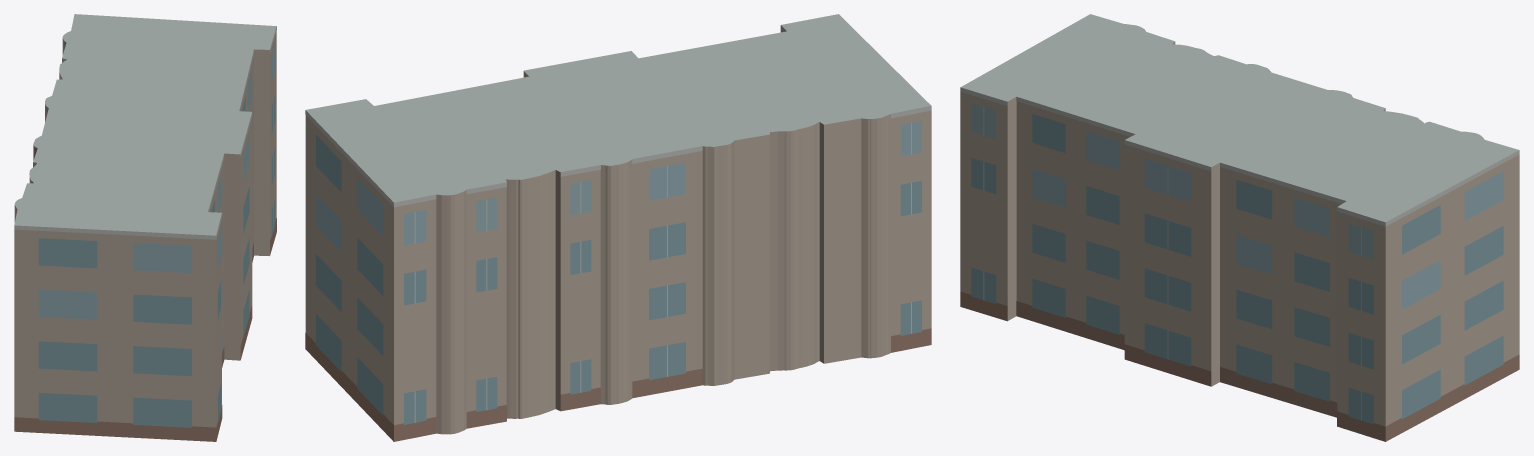
Rendered from survey-upis-32921995.glb.
The picture shows the model from 3 angles, left to right: view 1: azimuth 30°, elevation 25°; view 2: azimuth 150°, elevation 25°; view 3: azimuth 270°, elevation 25°; orthographic projection. The views are drawn at different scales.
Visible parts, largest first — view 1: survey-upis-32921995.tmp; view 2: survey-upis-32921995.tmp; view 3: survey-upis-32921995.tmp.
Part boxes in pixels (box(x1,y1,x2,y2)): survey-upis-32921995.tmp: box(14, 14, 276, 441); survey-upis-32921995.tmp: box(305, 14, 931, 441); survey-upis-32921995.tmp: box(960, 14, 1519, 441).
Bounding box in the file's own units: 25.15 × 12.35 × 28.52.
